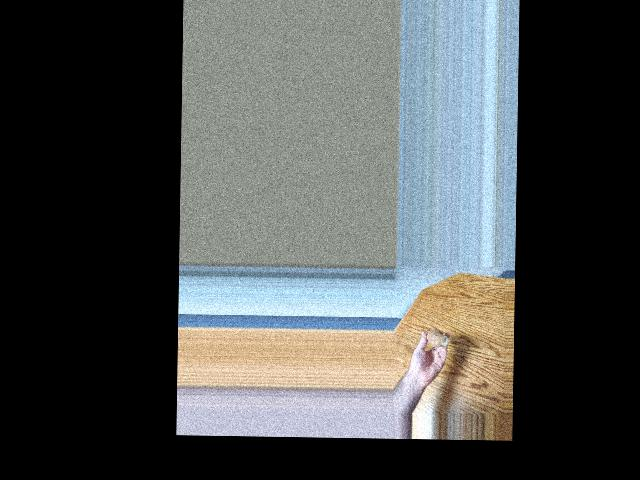sweet_potato: (423, 321, 449, 347)
